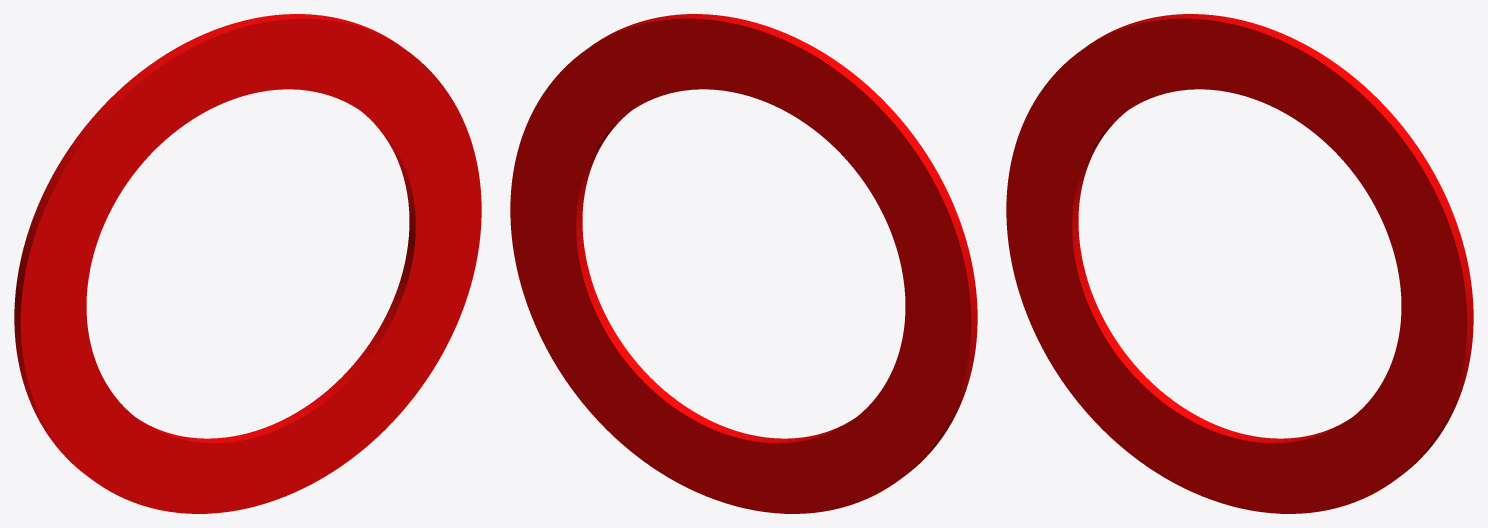
The model's file is gate_round_small_red.dae.
3 renders of one model, left to right at view 1: azimuth 30°, elevation 25°; view 2: azimuth 150°, elevation 25°; view 3: azimuth 330°, elevation 25°, orthographic.
Visible parts, largest first — view 1: gates_round_small; view 2: gates_round_small; view 3: gates_round_small.
Boxes of the visible parts, x1,y1,x2,y2 form: gates_round_small: (14, 14, 481, 513); gates_round_small: (510, 14, 977, 513); gates_round_small: (1006, 14, 1473, 513).
Bounding box in the file's own units: 1.05 × 0.025 × 1.05.
